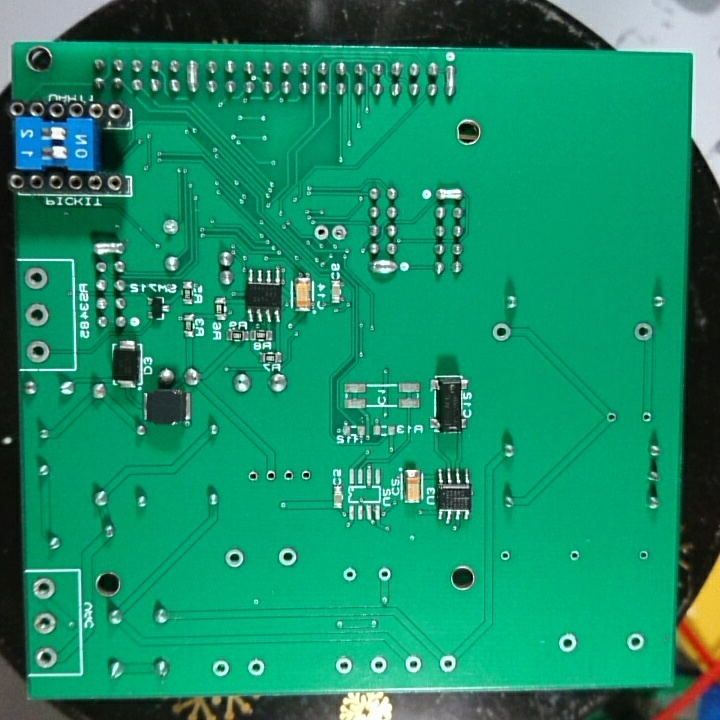F: (30, 575, 59, 606), (22, 264, 49, 292), (23, 302, 51, 329), (33, 643, 60, 671), (487, 318, 514, 346), (24, 338, 53, 364), (555, 630, 581, 658), (31, 611, 59, 636), (631, 318, 656, 346), (156, 215, 183, 240), (223, 547, 247, 574), (400, 652, 426, 676), (332, 653, 355, 680), (436, 652, 461, 676), (276, 546, 299, 572), (624, 629, 647, 655), (208, 658, 233, 681), (244, 655, 267, 680), (330, 219, 350, 246), (367, 652, 388, 676), (312, 220, 330, 245), (340, 564, 359, 586), (375, 563, 393, 586), (634, 546, 653, 566), (279, 466, 295, 486), (566, 546, 582, 565), (603, 409, 619, 428), (497, 546, 513, 564), (263, 468, 278, 487), (245, 469, 261, 486), (639, 409, 654, 426), (299, 466, 313, 483)
P: (89, 238, 127, 257), (365, 258, 399, 278), (184, 58, 200, 96), (444, 61, 459, 101), (431, 186, 466, 203)
